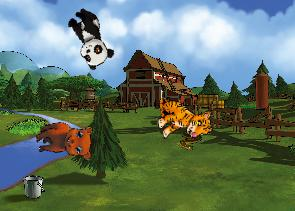bear: (33, 118, 96, 166)
panda: (61, 4, 117, 71)
tiger: (153, 91, 213, 143)
